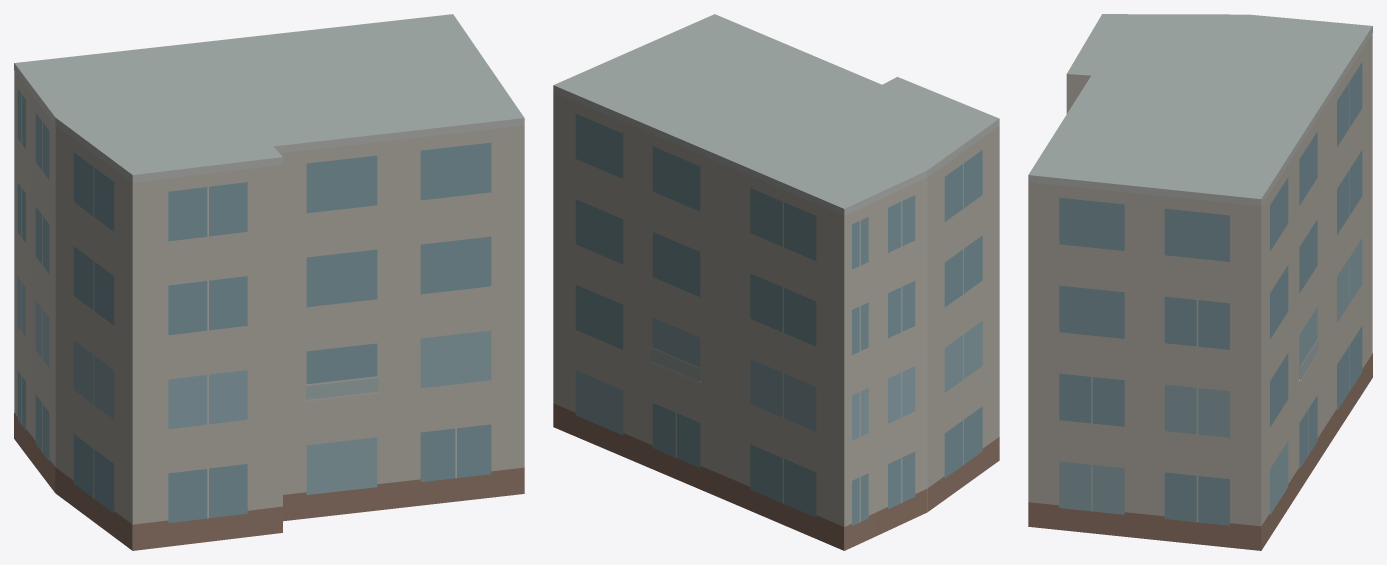
File: survey-upis-32787430.glb
3 renders of one model, left to right at view 1: azimuth 30°, elevation 25°; view 2: azimuth 150°, elevation 25°; view 3: azimuth 270°, elevation 25°, orthographic. The views are drawn at different scales.
Visible parts, largest first — view 1: survey-upis-32787430.tmp; view 2: survey-upis-32787430.tmp; view 3: survey-upis-32787430.tmp.
Part boxes in pixels (x1,y1,x2,y2): survey-upis-32787430.tmp: [14, 14, 524, 550]; survey-upis-32787430.tmp: [553, 14, 999, 550]; survey-upis-32787430.tmp: [1028, 14, 1372, 550].
Size of the model in its own units: 13.56 by 12 by 10.66.
